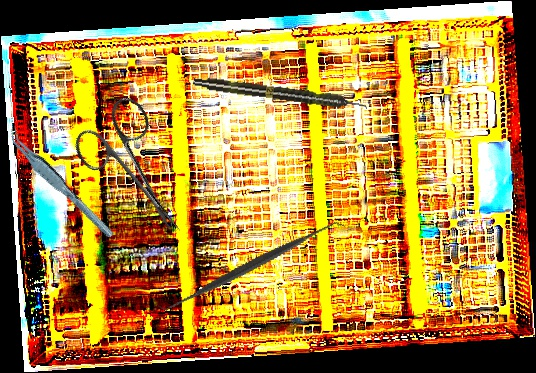Handpiece: (192, 74, 369, 114)
Iris Scissors: (65, 91, 211, 255)
Spatula Surgical: (157, 169, 346, 363)
Tissue Forceps: (5, 118, 115, 249)
